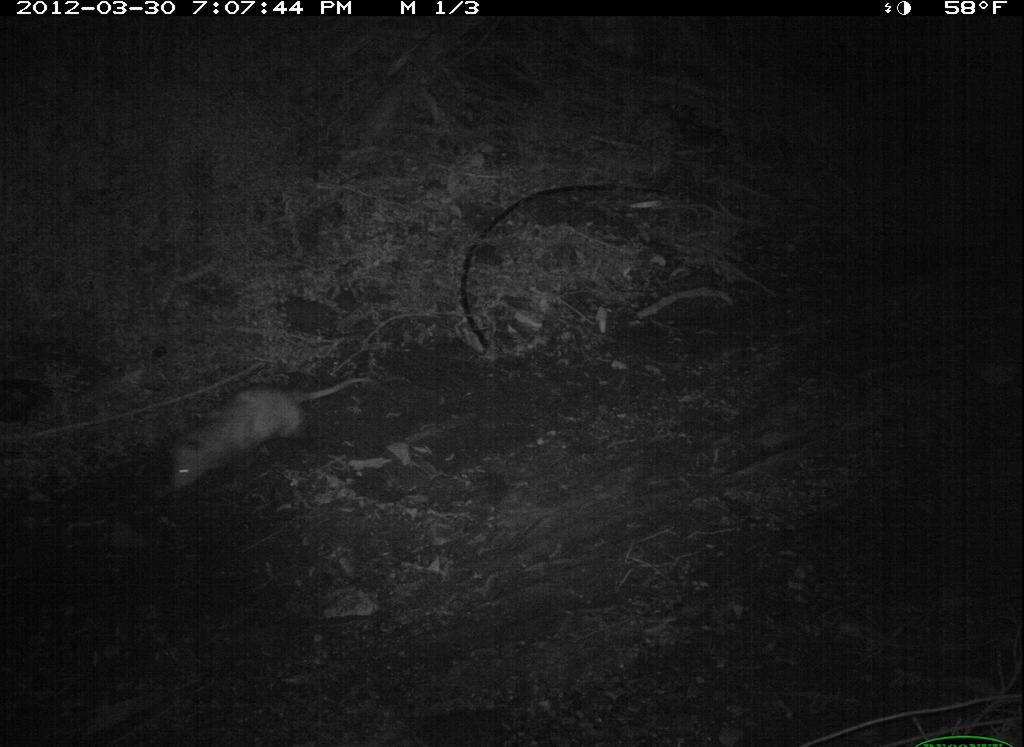opossum: (143, 346, 421, 502)
